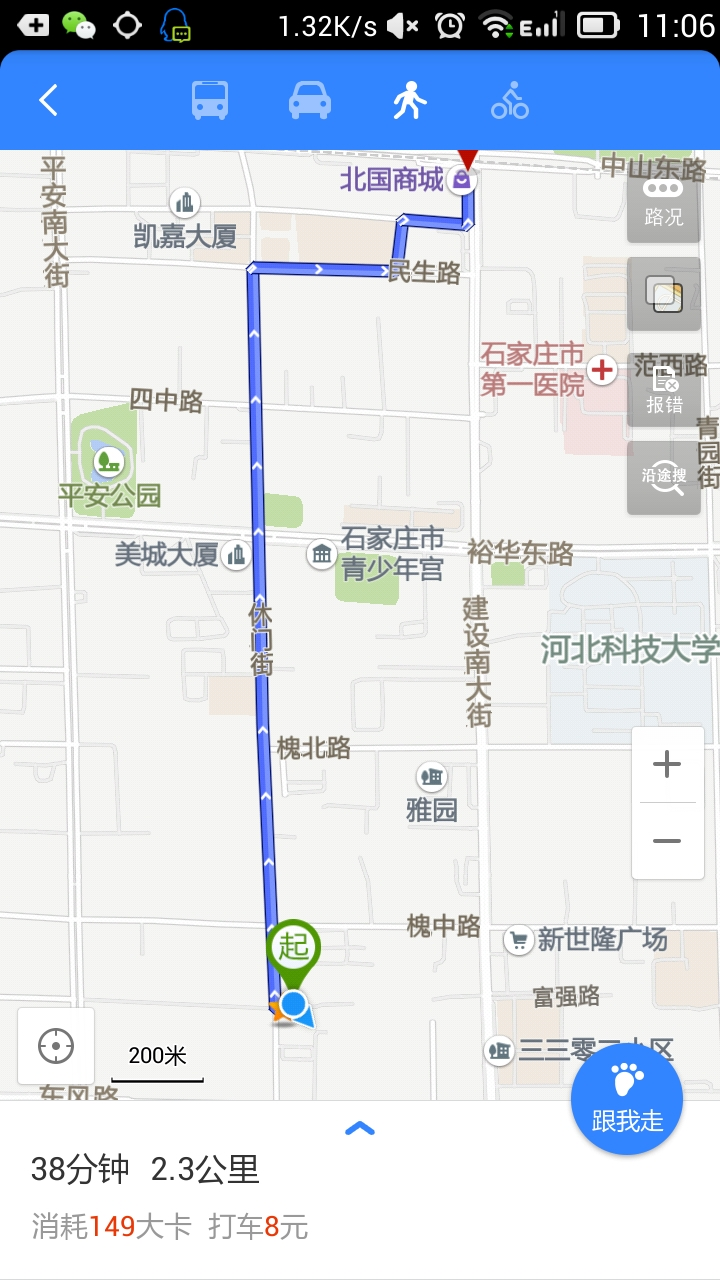button: (622, 717, 713, 898)
nav: (142, 67, 665, 144)
